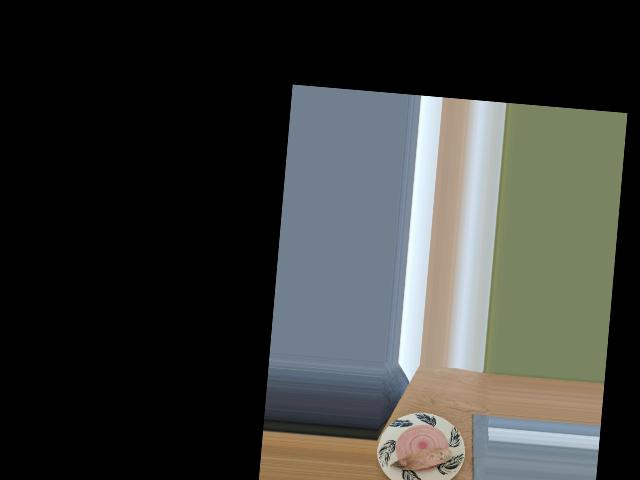sweet_potato: (394, 440, 450, 478)
